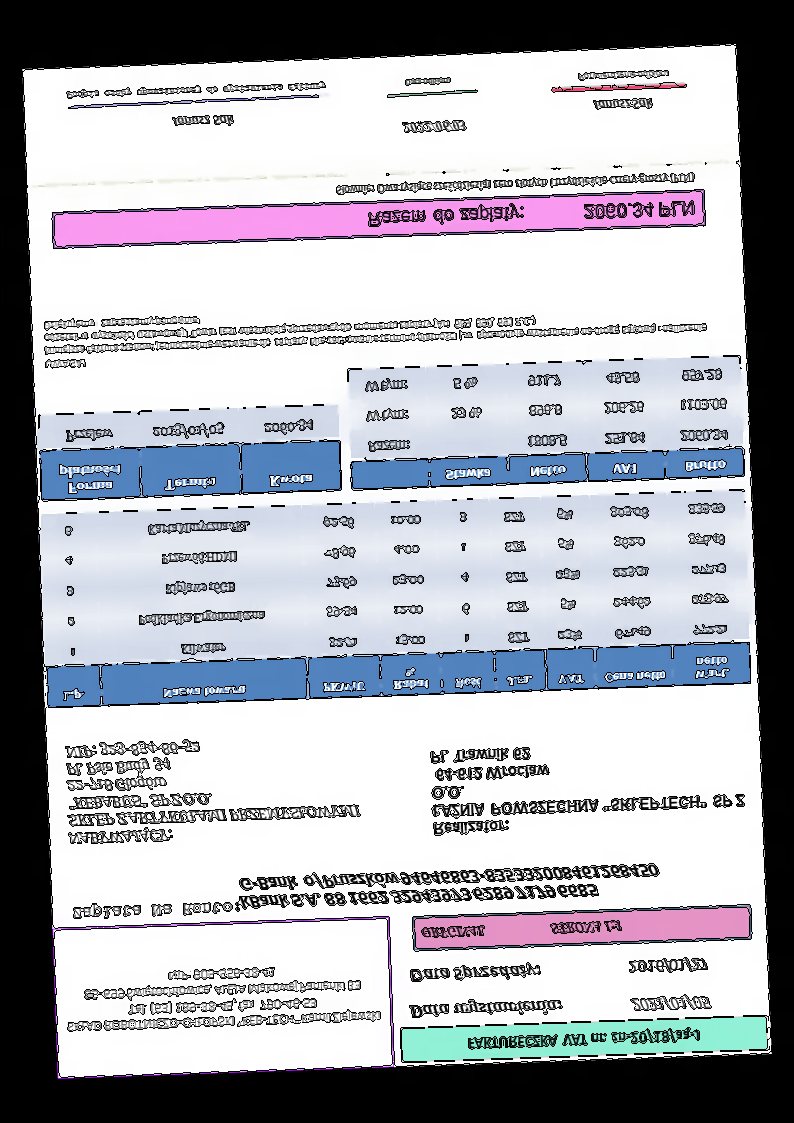Table: (39, 487, 753, 711), (346, 353, 747, 492), (37, 404, 341, 503)
TextBox: (42, 295, 710, 372), (63, 730, 364, 848), (427, 733, 750, 836), (63, 956, 384, 1037), (238, 861, 663, 910), (366, 197, 696, 230), (333, 170, 698, 198), (464, 1025, 702, 1055), (63, 79, 327, 100), (420, 916, 625, 941), (407, 992, 562, 1022), (70, 898, 242, 922), (406, 959, 543, 985), (629, 990, 713, 1015), (626, 955, 709, 977), (168, 110, 236, 131), (575, 68, 672, 82), (400, 118, 468, 135), (590, 96, 655, 112), (402, 75, 454, 88)
